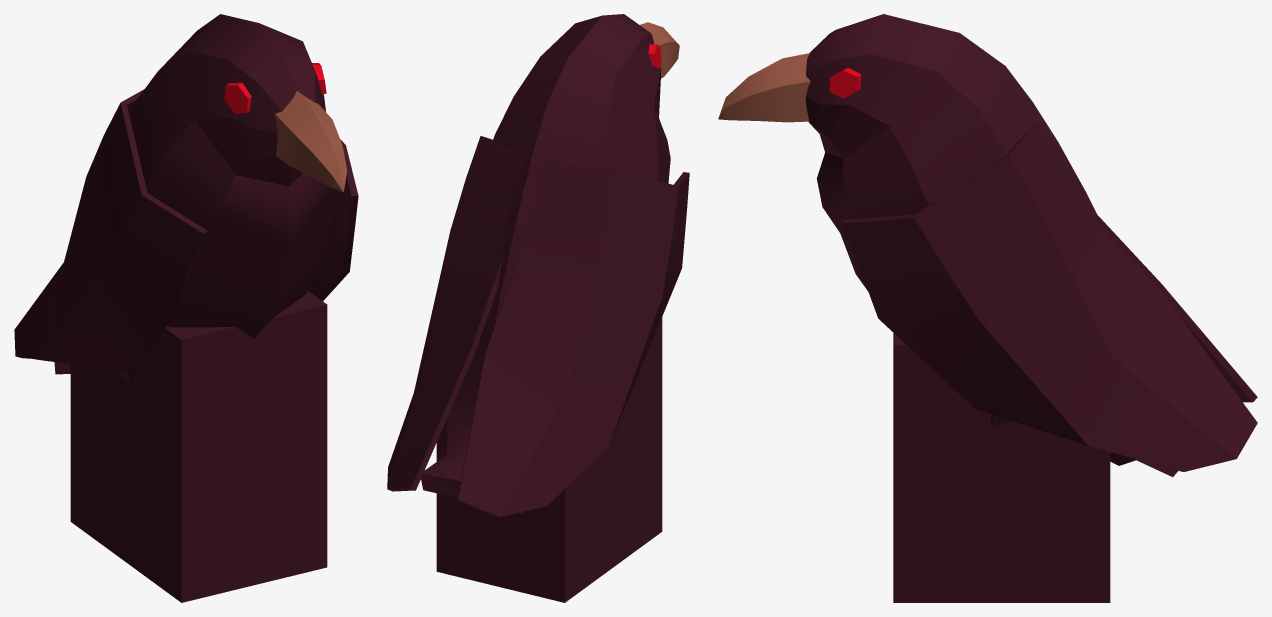
File: RAVEN.fbx
The picture shows the model from 3 angles, left to right: view 1: azimuth 30°, elevation 25°; view 2: azimuth 150°, elevation 25°; view 3: azimuth 270°, elevation 25°; orthographic projection. The views are drawn at different scales.
Parts seen in each view (by area): view 1: 立方体; view 2: 立方体; view 3: 立方体.
Part boxes in pixels (<box>): 立方体: <box>14,14,358,602</box>; 立方体: <box>387,14,689,602</box>; 立方体: <box>718,14,1257,602</box>.
Bounding box in the file's own units: 2303 × 5320 × 4696.
